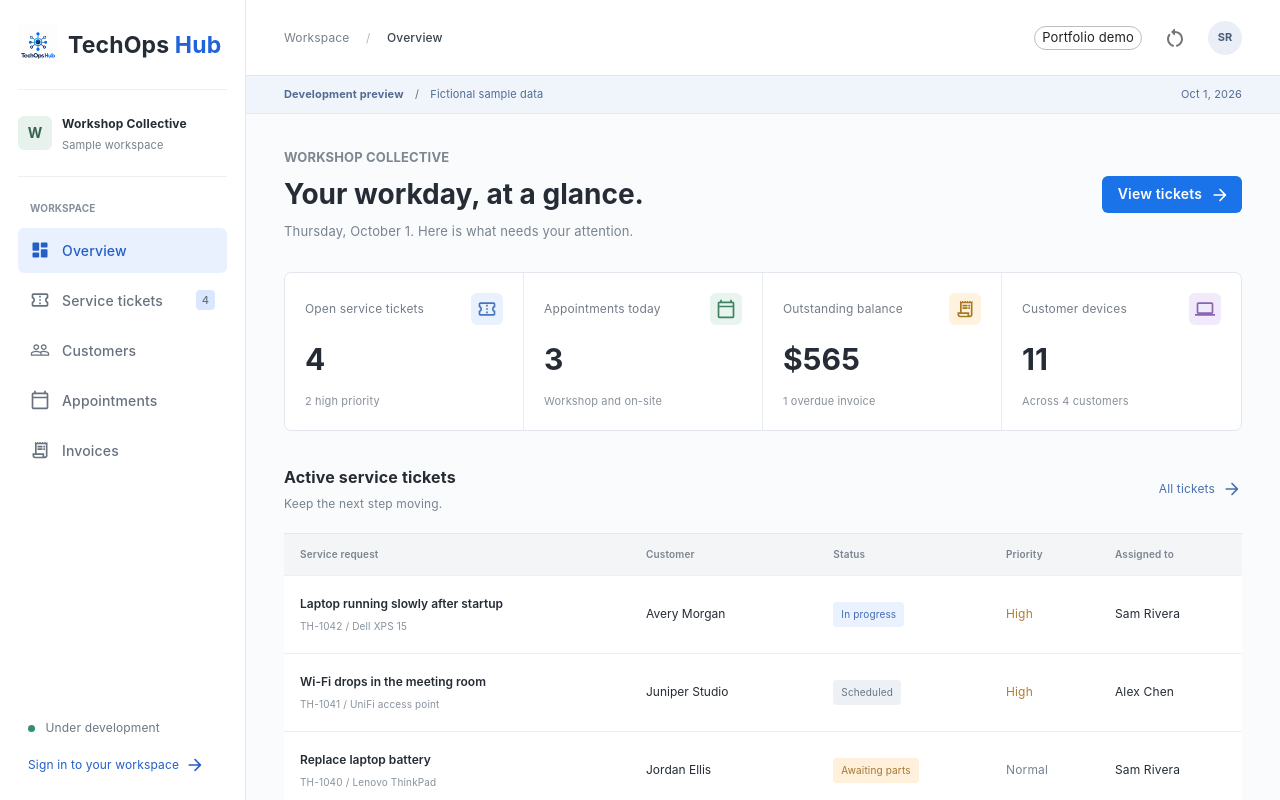
Test: AppProviders › lets a visitor inspect a ticket and update only its demo status
What coordinates should you click on to do the following:
click the button "Laptop running slowly after startup"
I would click on:
 (402, 604)
Its box is [300,594,503,612].
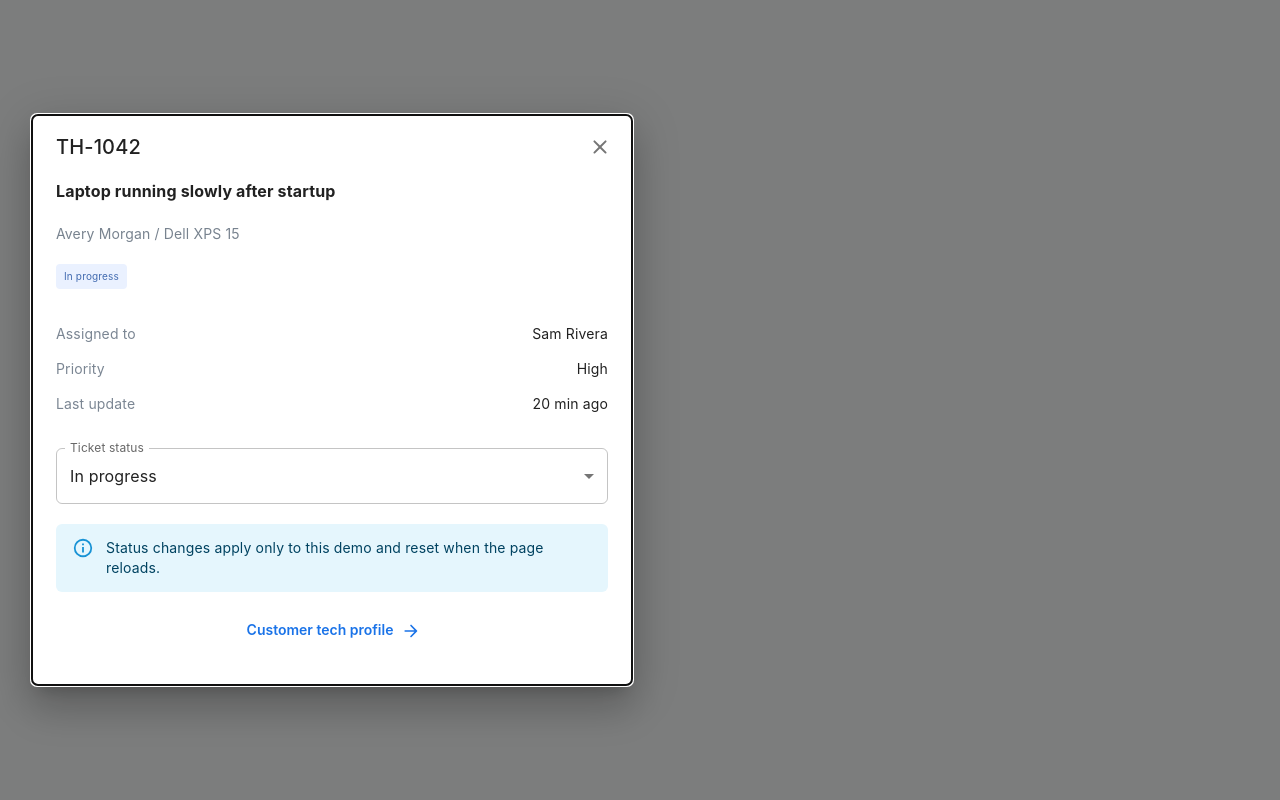
Now the dialog shows "TH-1042", box [56,135,141,159]
Now the element with class "detail-content" is shown, box [56,179,608,665]
What coordinates should you click on to do the following:
click the dropdown named "Ticket status"
I would click on:
 (113, 476)
Its box is [70,466,157,486].
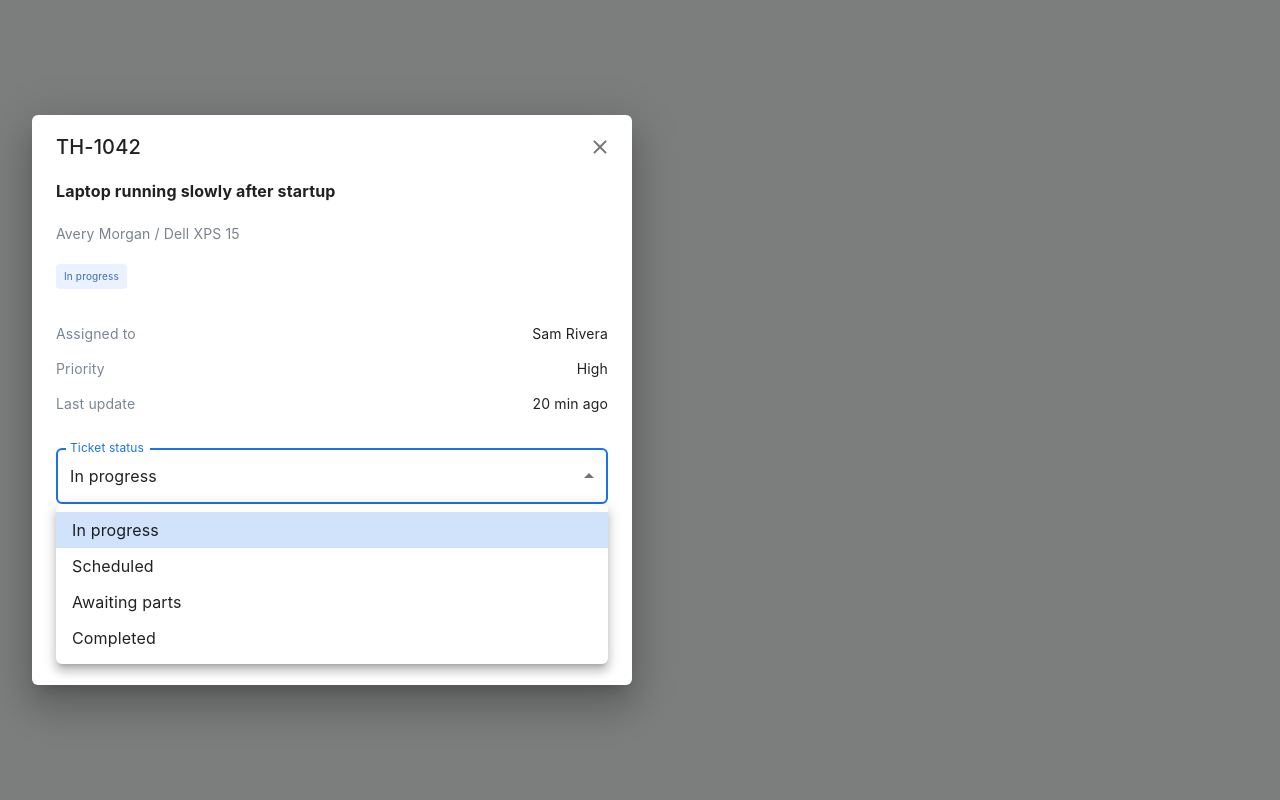
What coordinates should you click on to do the following:
click the option "Completed"
I would click on:
 (114, 638)
Its box is [72,628,156,648].
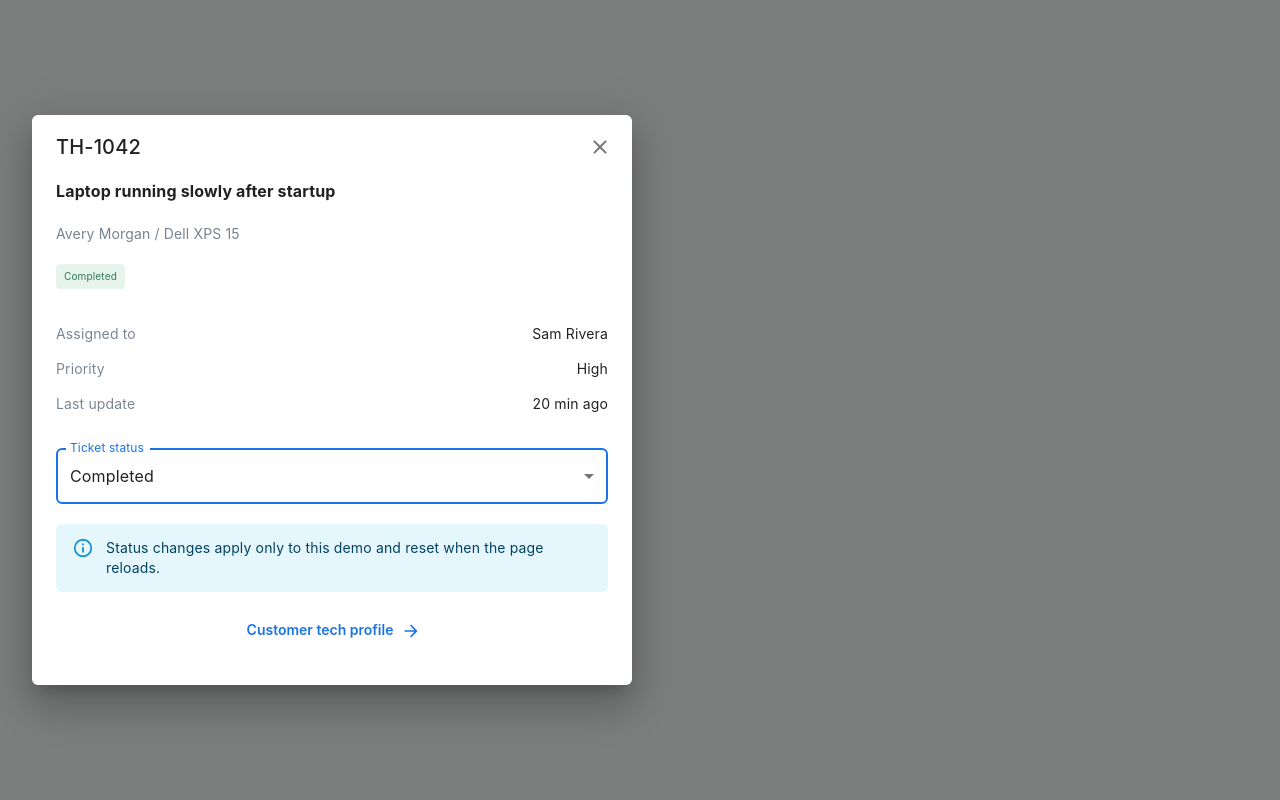
What coordinates should you click on to do the following:
click the button named "Close details"
I would click on:
 (600, 147)
Its box is [580,127,620,167].
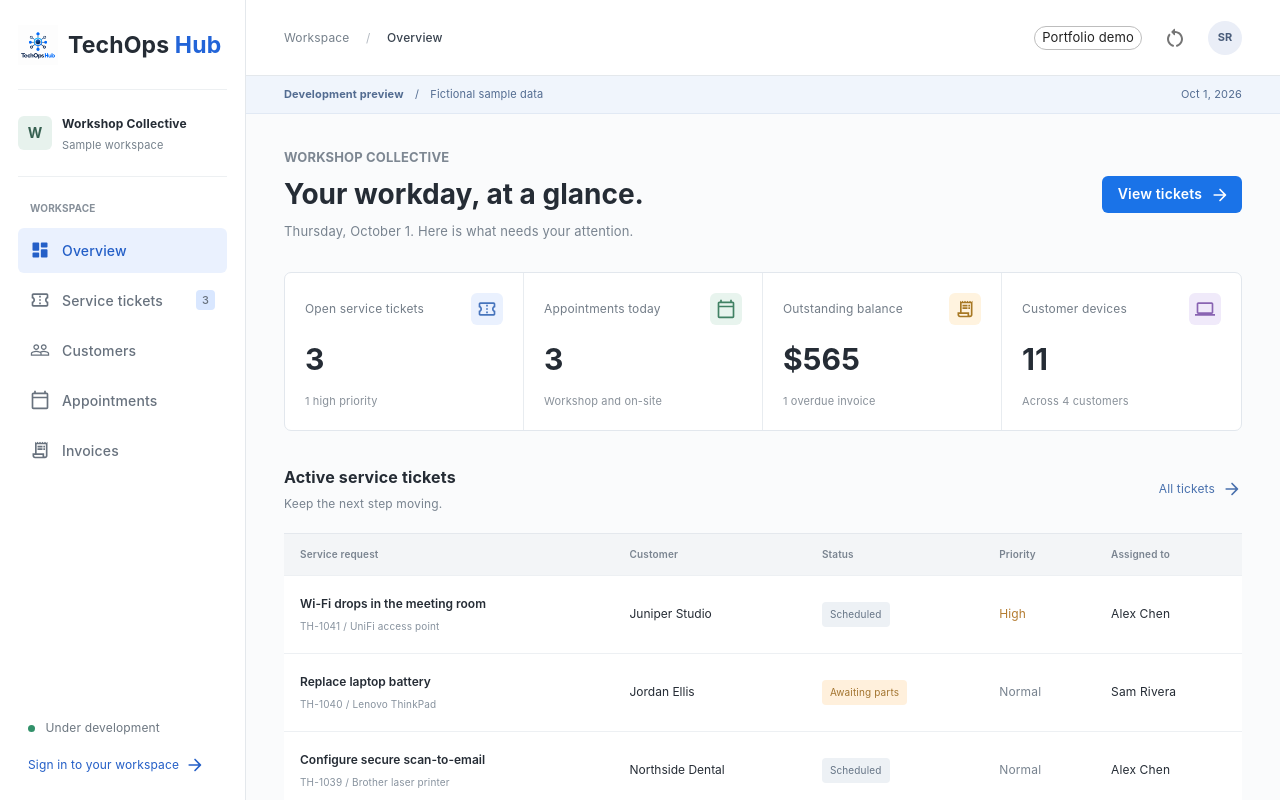
Now the dialog is gone
Now the heading "Laptop running slowly after startup" is gone
What coordinates should you click on to do the following:
click the button named "Reset demo"
I would click on:
 (1175, 38)
Its box is [1155,18,1195,58].
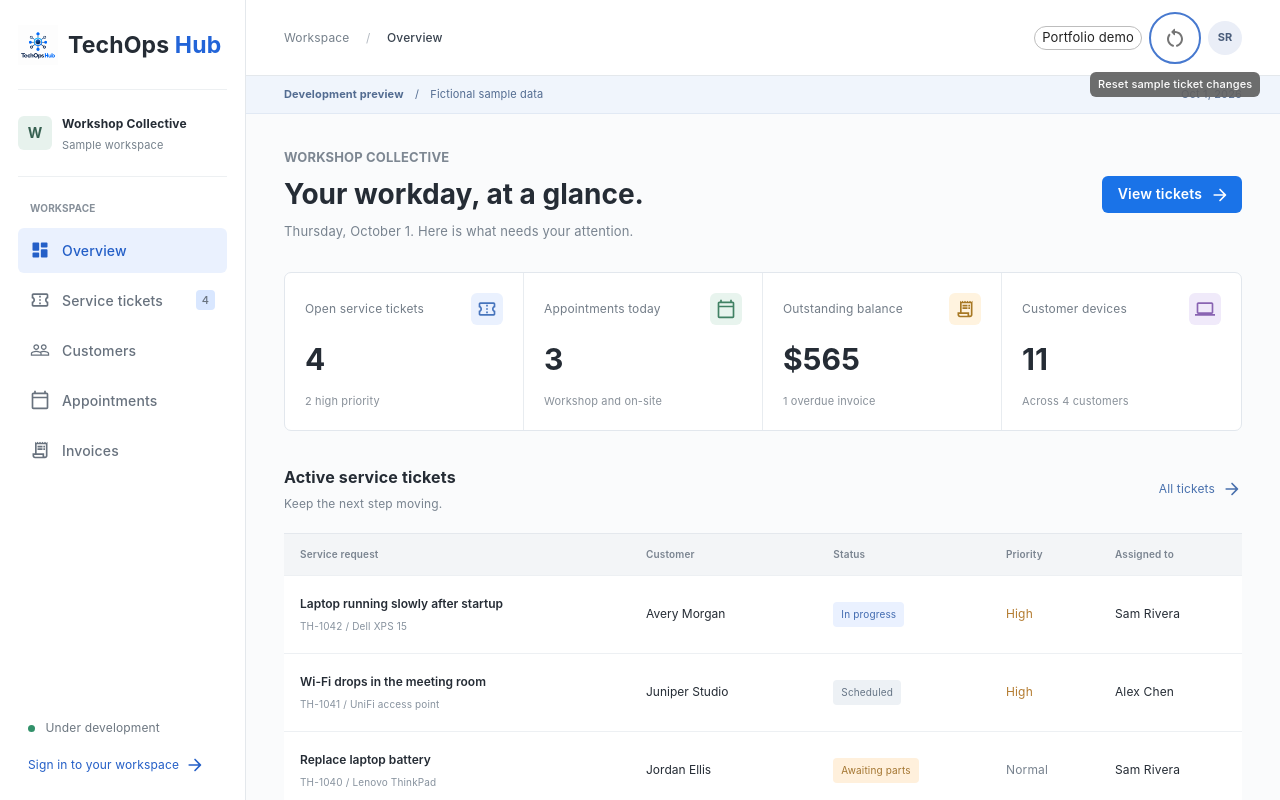
Now the button "Laptop running slowly after startup" is shown, box [300,594,503,612]
